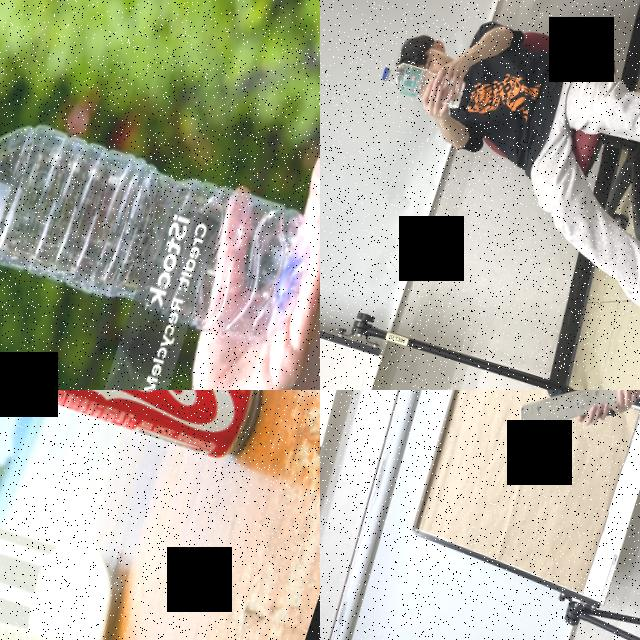bottle: (0, 91, 320, 358), (378, 54, 468, 112)
can: (0, 390, 273, 468)
